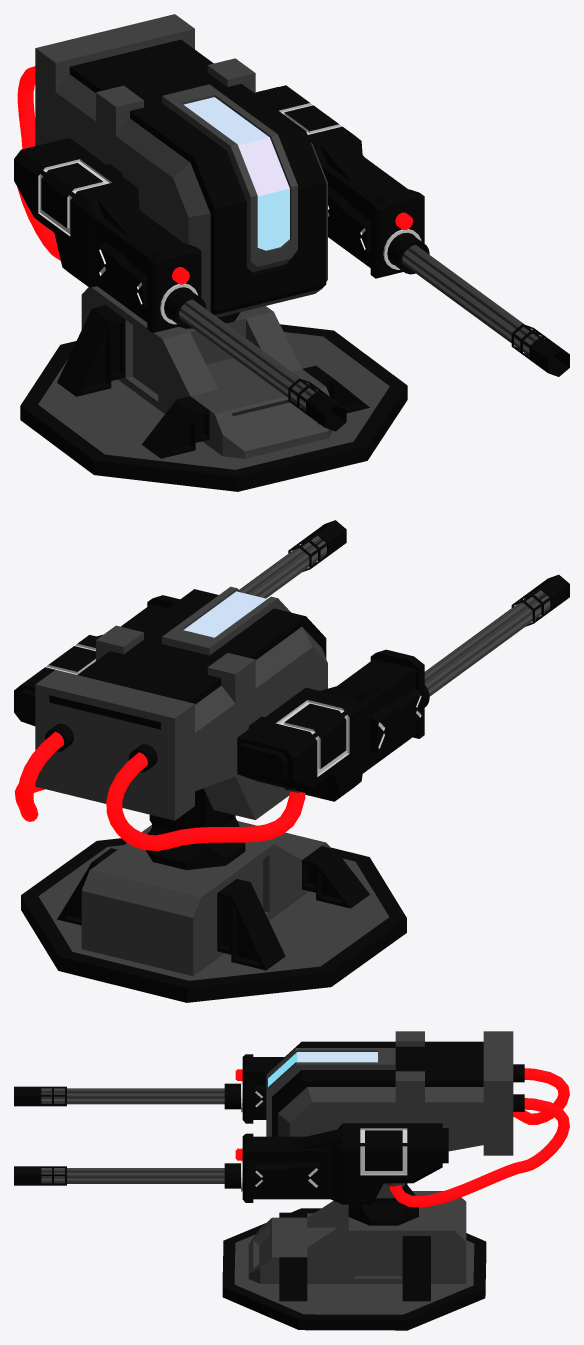
The model's file is Gun.fbx.
3 views of the same model, one above another, from view 1: azimuth 30°, elevation 25°; view 2: azimuth 150°, elevation 25°; view 3: azimuth 270°, elevation 25° (orthographic). The views are drawn at different scales.
Visible parts, largest first — view 1: Cube.006, Cube.002, Cube.001, Stand.002, Stand.001, Cylinder, Cube.007, Cube.004, Cube.003, Cylinder.002, Cylinder.009, BezierCurve (+3 smaller); view 2: Cube.001, Cube.006, Stand.002, Stand.001, Cube.002, Cylinder, Cube.007, BezierCurve, Cube, Cylinder.002, Cube.004, Cylinder.009 (+4 smaller); view 3: Cube.006, Cube.001, Stand.002, Cube.002, Stand.001, Cylinder, BezierCurve, Cube.007, Cylinder.002, Cylinder.009, Cube.004, Cube (+5 smaller).
Boxes of the visible parts, left/top/right/bottom form: Cube.006: left=14, top=85, right=424, bottom=332; Cube.002: left=69, top=39, right=326, bottom=314; Cube.001: left=35, top=14, right=327, bottom=317; Stand.002: left=81, top=286, right=332, bottom=458; Stand.001: left=20, top=324, right=407, bottom=491; Cylinder: left=38, top=332, right=389, bottom=469; Cube.007: left=57, top=305, right=369, bottom=458; Cube.004: left=162, top=84, right=297, bottom=272; Cube.003: left=184, top=97, right=289, bottom=250; Cylinder.002: left=179, top=299, right=318, bottom=410; Cylinder.009: left=402, top=245, right=541, bottom=355; BezierCurve: left=17, top=66, right=60, bottom=260; Cube.001: left=35, top=625, right=327, bottom=820; Cube.006: left=14, top=595, right=424, bottom=801; Stand.002: left=81, top=821, right=331, bottom=976; Stand.001: left=21, top=838, right=406, bottom=1002; Cube.002: left=49, top=589, right=326, bottom=729; Cylinder: left=38, top=845, right=389, bottom=980; Cube.007: left=57, top=846, right=369, bottom=970; BezierCurve: left=14, top=731, right=305, bottom=850; Cube: left=145, top=788, right=245, bottom=870; Cylinder.002: left=424, top=590, right=550, bottom=696; Cube.004: left=162, top=586, right=290, bottom=655; Cylinder.009: left=239, top=535, right=326, bottom=598; Cube.006: left=241, top=1054, right=448, bottom=1204; Cube.001: left=278, top=1031, right=513, bottom=1198; Stand.002: left=248, top=1191, right=466, bottom=1283; Cube.002: left=272, top=1041, right=483, bottom=1136; Stand.001: left=222, top=1208, right=486, bottom=1330; Cylinder: left=234, top=1213, right=474, bottom=1314; BezierCurve: left=389, top=1068, right=569, bottom=1207; Cube.007: left=279, top=1212, right=430, bottom=1301; Cylinder.002: left=41, top=1088, right=224, bottom=1104; Cylinder.009: left=41, top=1168, right=224, bottom=1183; Cube.004: left=266, top=1048, right=395, bottom=1136; Cube: left=348, top=1183, right=418, bottom=1225.
Size of the model in its own units: 449 by 410 by 946.
